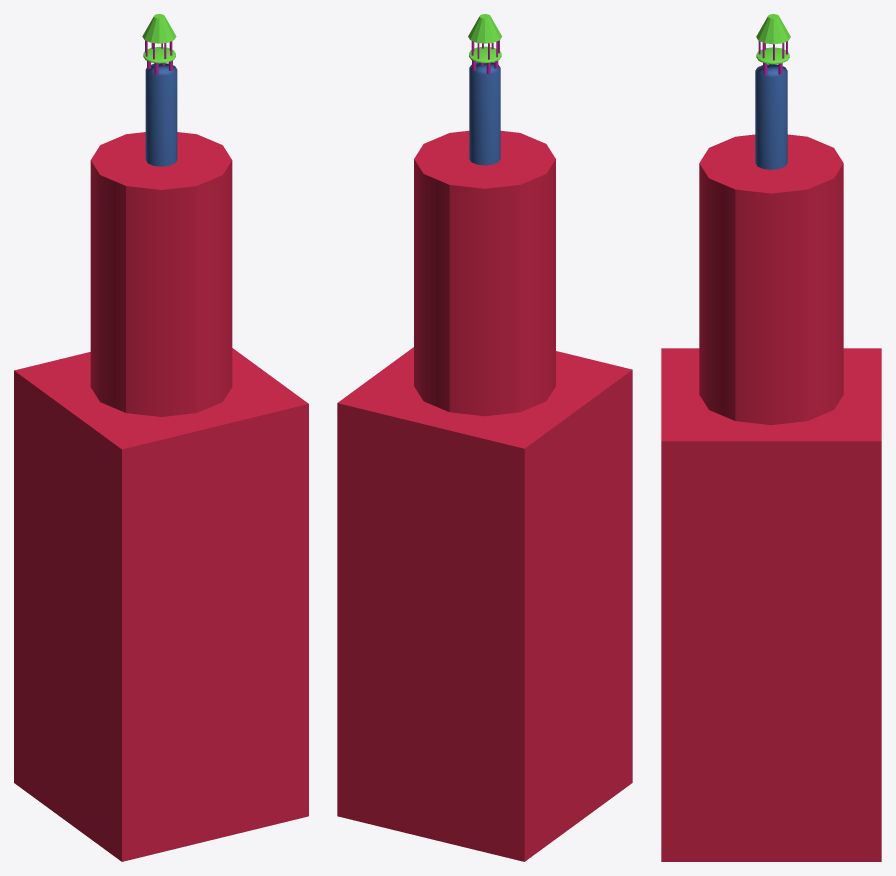
File: Lighthouse of Alexandria.fbx
3 renders of one model, left to right at view 1: azimuth 30°, elevation 25°; view 2: azimuth 150°, elevation 25°; view 3: azimuth 270°, elevation 25°, orthographic.
Parts seen in each view (by area): view 1: Lighthouse_of_Alexandria; view 2: Lighthouse_of_Alexandria; view 3: Lighthouse_of_Alexandria.
Boxes of the visible parts, x1,y1,x2,y2 form: Lighthouse_of_Alexandria: [14, 14, 308, 861]; Lighthouse_of_Alexandria: [337, 14, 632, 861]; Lighthouse_of_Alexandria: [661, 14, 881, 861].
Size of the model in its own units: 20.17 by 80.69 by 20.17.
